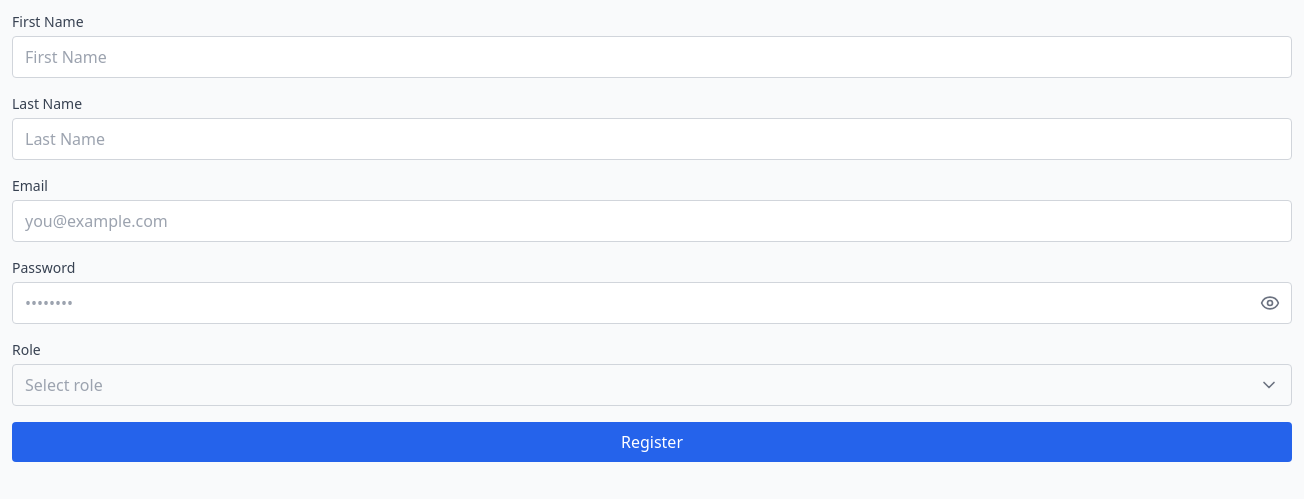
AuthForm (Register) › shows field error if role is not selected in register
This screenshot has width=1304, height=499.
Type "Eve" into the field labelled "First Name" at (652, 57), box [12,36,1292,78]
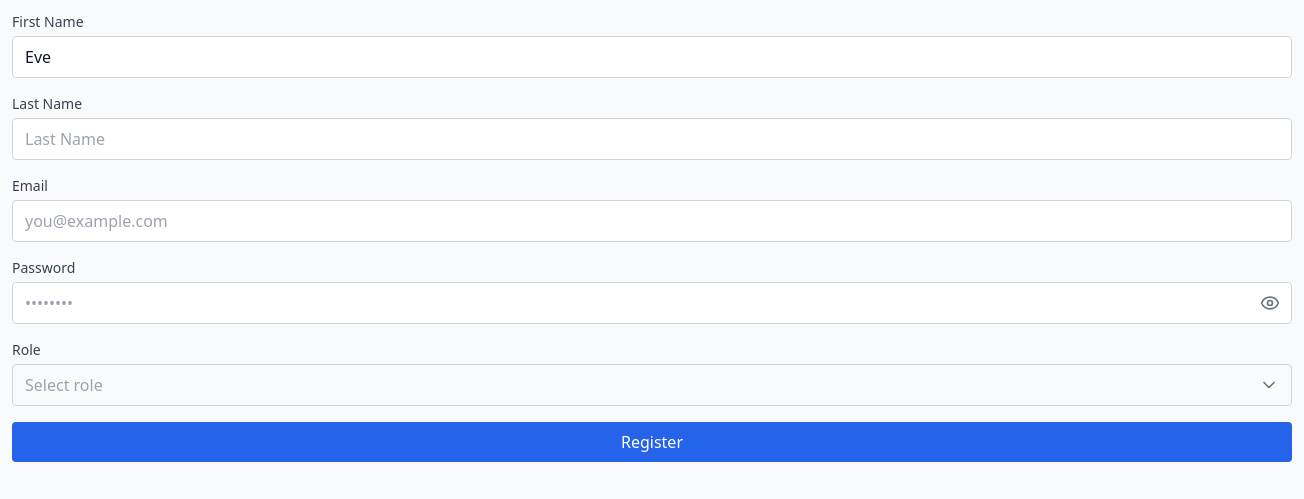
Type "Adams" into the field labelled "Last Name" at (652, 139), box [12,118,1292,160]
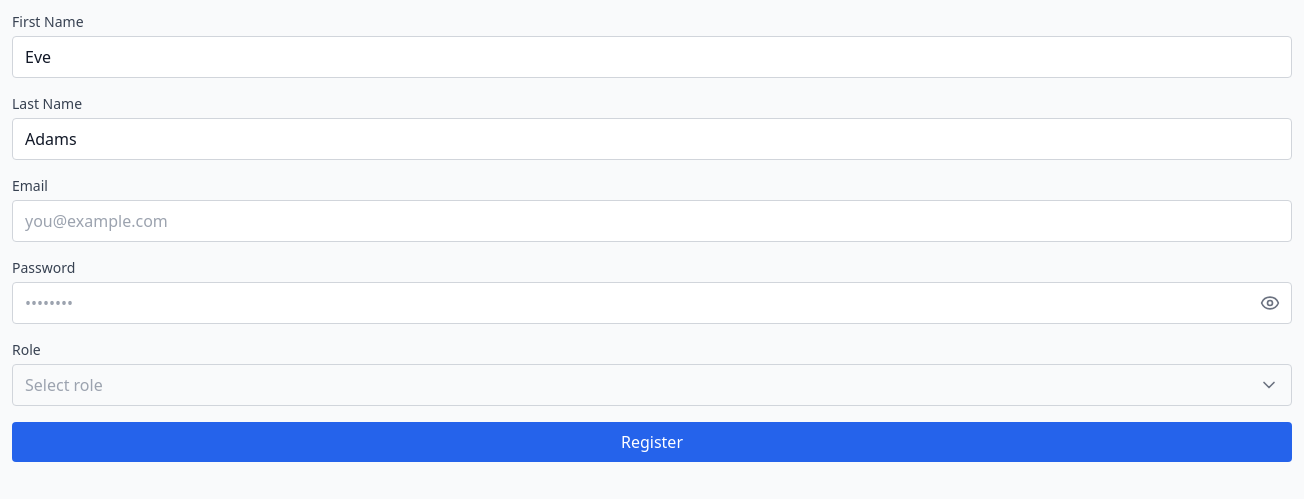
Type "eve@mail.com" into the field labelled "Email" at (652, 221), box [12,200,1292,242]
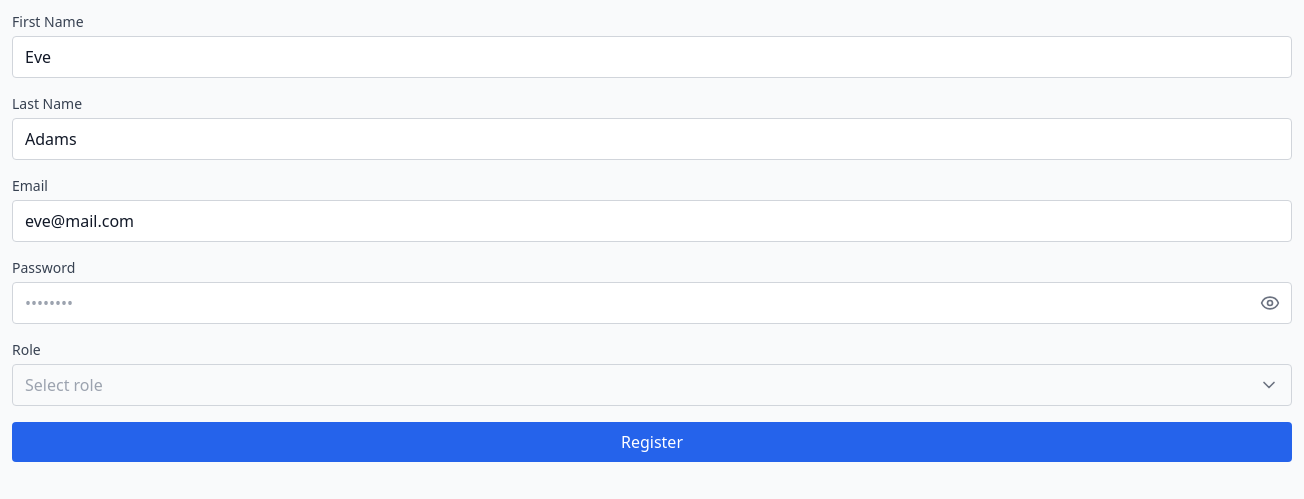
Type "password1" into the password field labelled "Password" at (652, 303), box [12,282,1292,324]
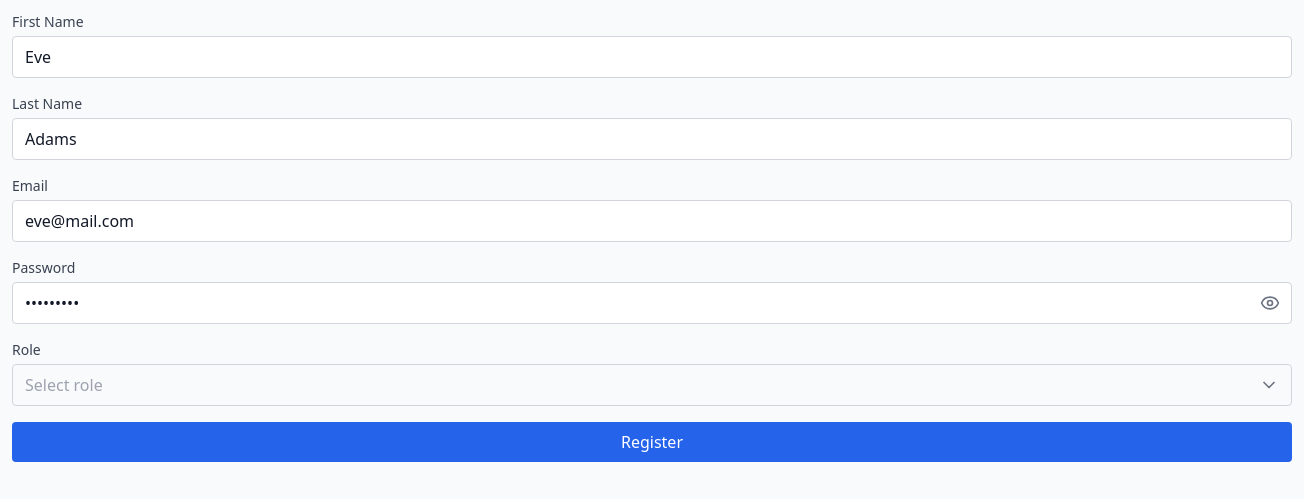
Click the button "Register" at (652, 442), box [12,422,1292,462]
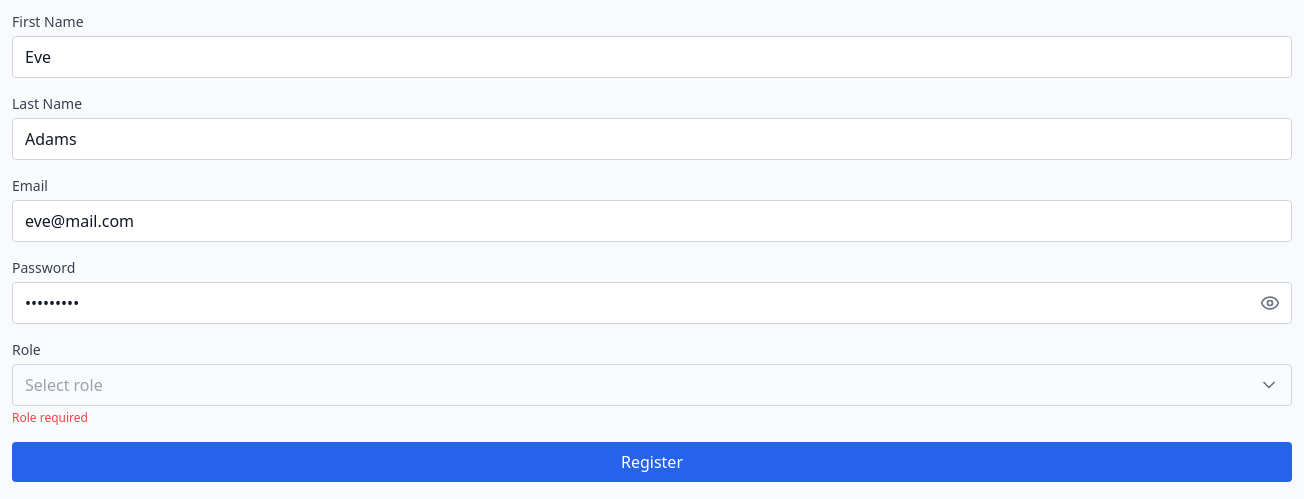
Expected: the text "Role required" is shown, [12,409,88,426]
